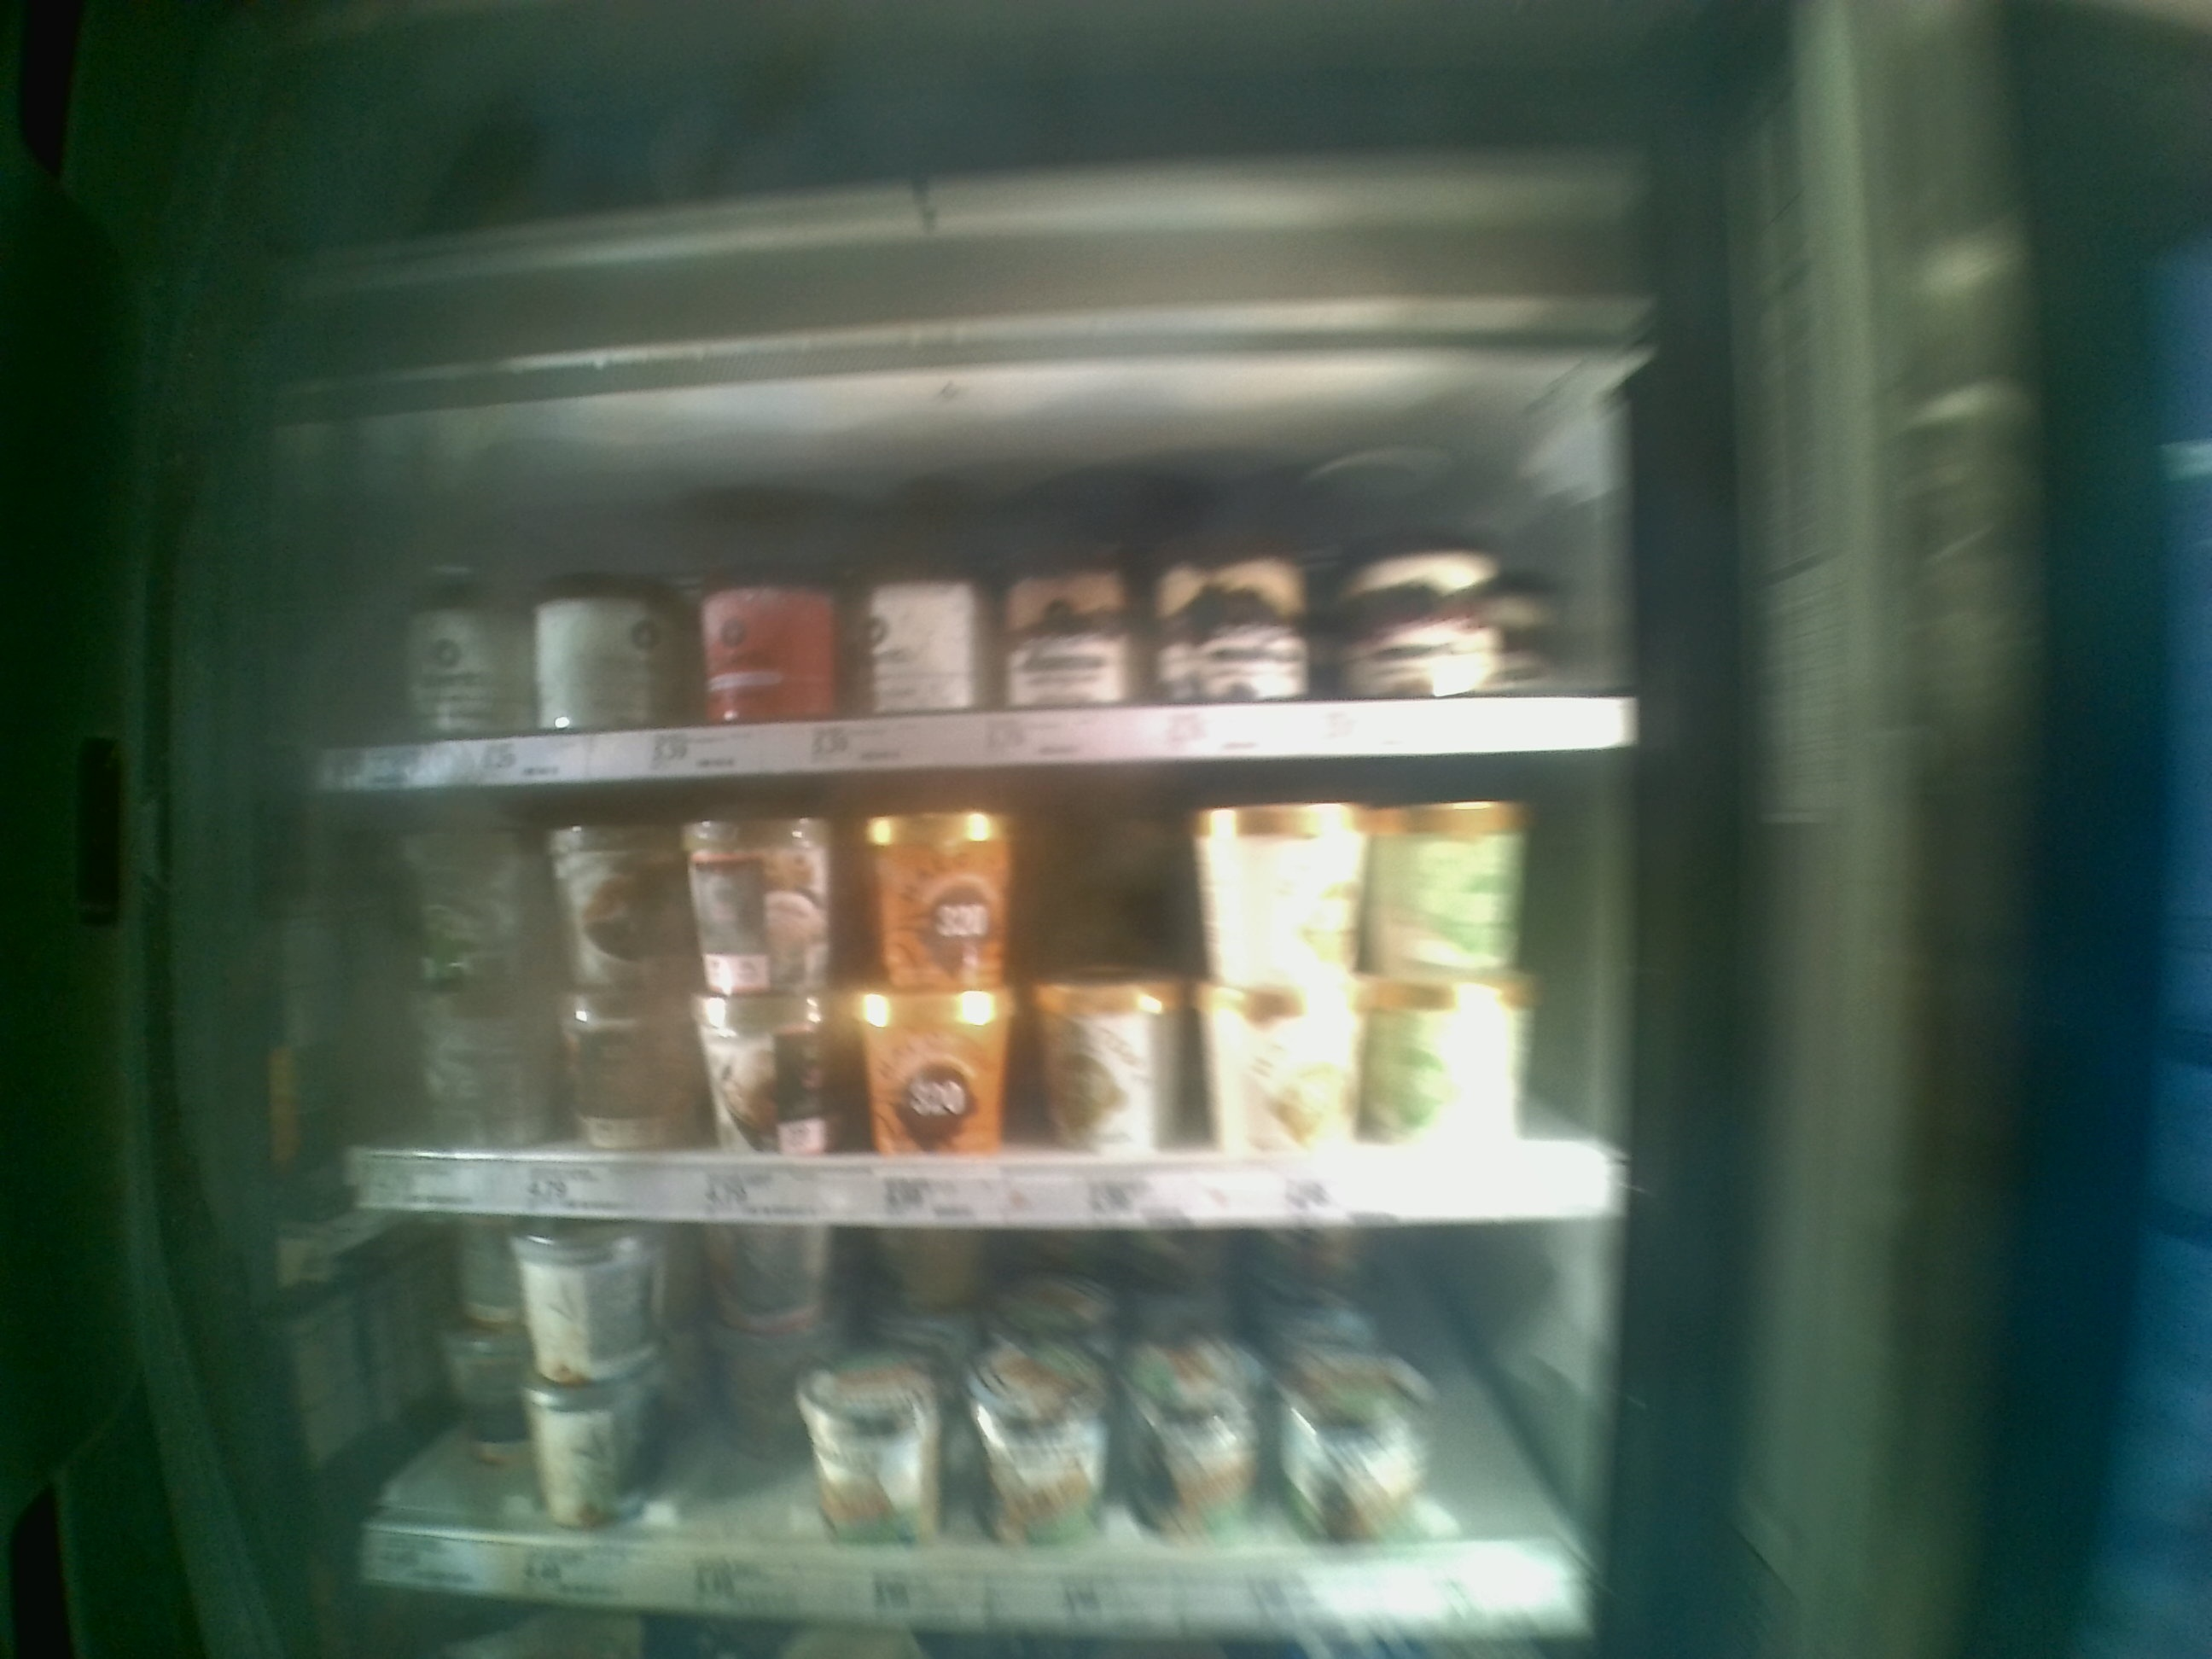shelf: (314, 786, 1637, 1223), (312, 373, 1641, 786), (312, 1223, 1620, 1608)
